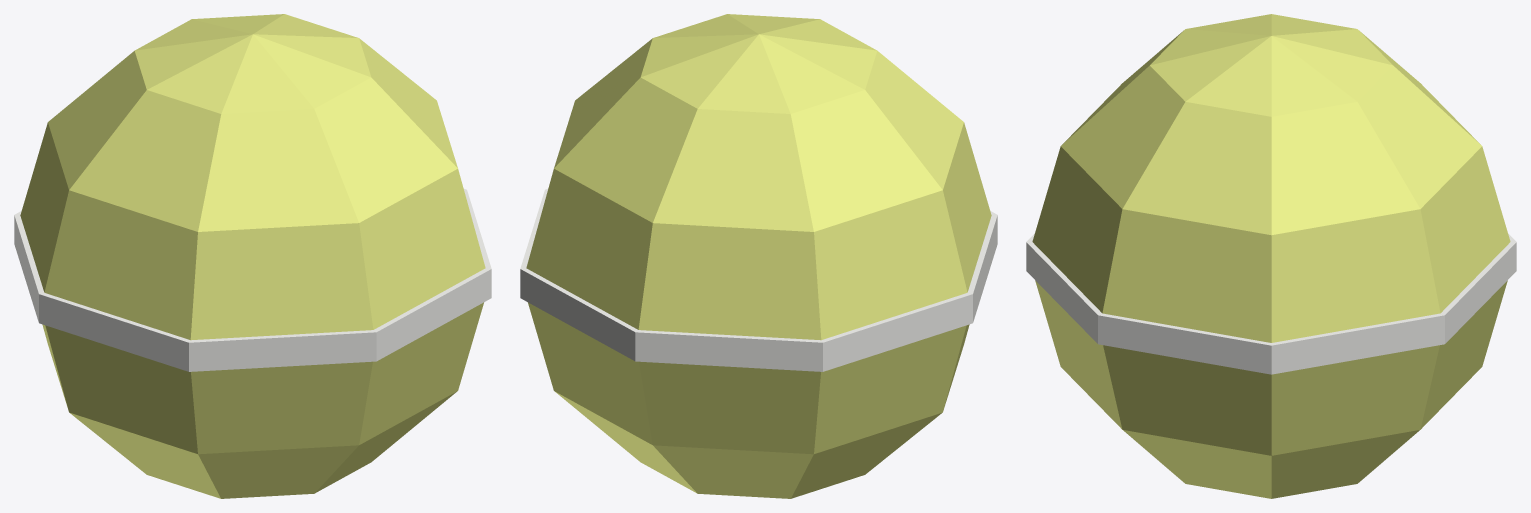
File: tennis-club-and-courts-tennis-ball-0f02a733__33616.glb
The picture shows the model from 3 angles, left to right: view 1: azimuth 30°, elevation 25°; view 2: azimuth 150°, elevation 25°; view 3: azimuth 270°, elevation 25°; orthographic projection.
Visible parts, largest first — view 1: tennis-ball; view 2: tennis-ball; view 3: tennis-ball.
Boxes of the visible parts, x1=… form: tennis-ball: x1=14, y1=14, x2=491, y2=498; tennis-ball: x1=520, y1=14, x2=997, y2=498; tennis-ball: x1=1026, y1=14, x2=1516, y2=498.
Size of the model in its own units: 0.0675 by 0.067 by 0.0675.
